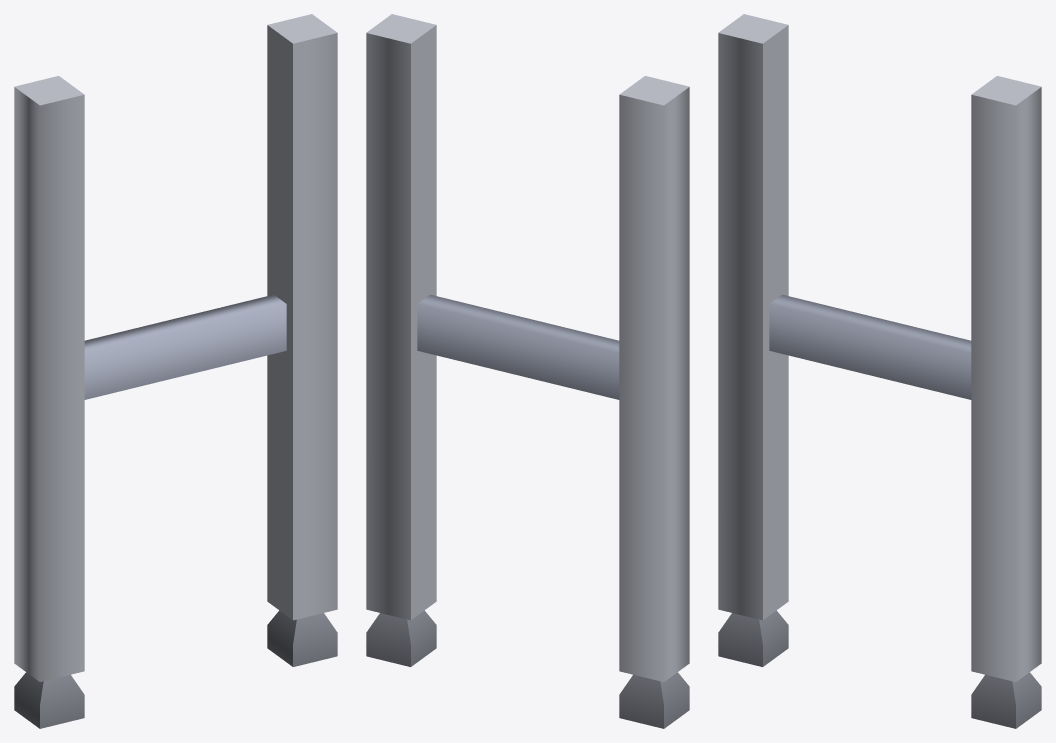
The model's file is structure-tall.fbx.
3 renders of one model, left to right at view 1: azimuth 30°, elevation 25°; view 2: azimuth 150°, elevation 25°; view 3: azimuth 330°, elevation 25°, orthographic.
Parts seen in each view (by area): view 1: structure-tall; view 2: structure-tall; view 3: structure-tall.
Part boxes in pixels (x1=…): structure-tall: x1=14, y1=14, x2=337, y2=728; structure-tall: x1=366, y1=14, x2=689, y2=728; structure-tall: x1=718, y1=14, x2=1041, y2=728.
Size of the model in its own units: 100 by 200 by 15.
